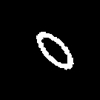chain: (36, 32, 73, 69)
